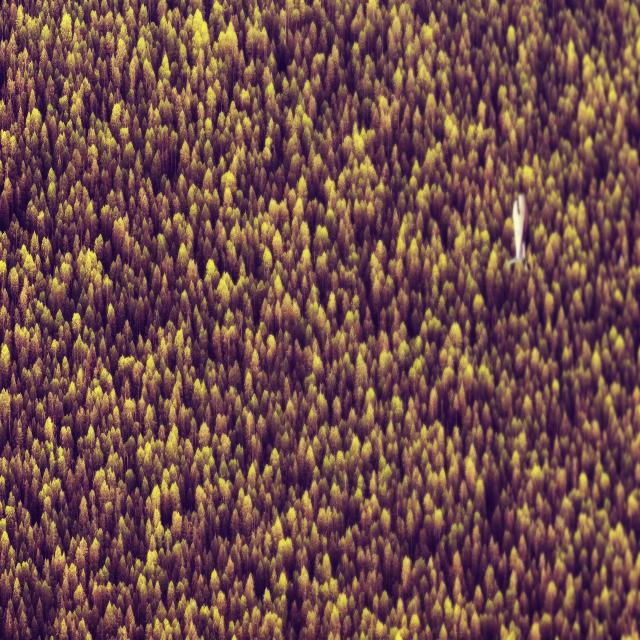airplane: (503, 193, 529, 272)
